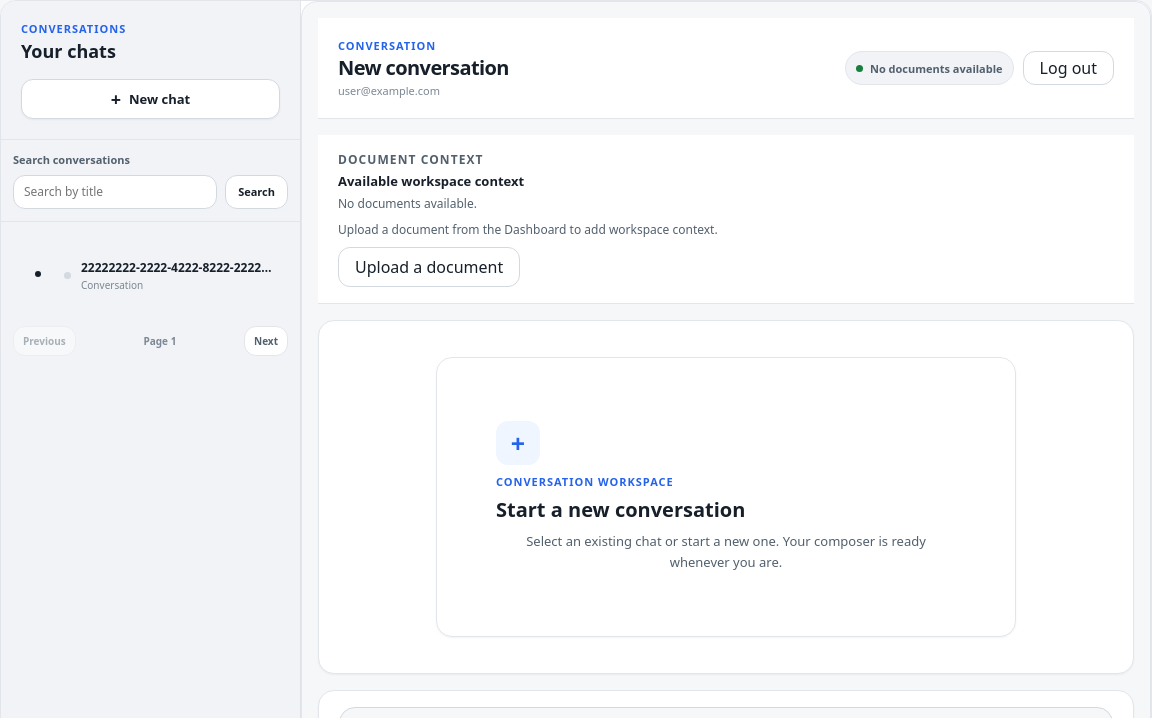
Test case: ChatPage › renders history errors
Click the button "22222222-2222-4222-8222-222222222222": (170, 276) [53,250,288,302]
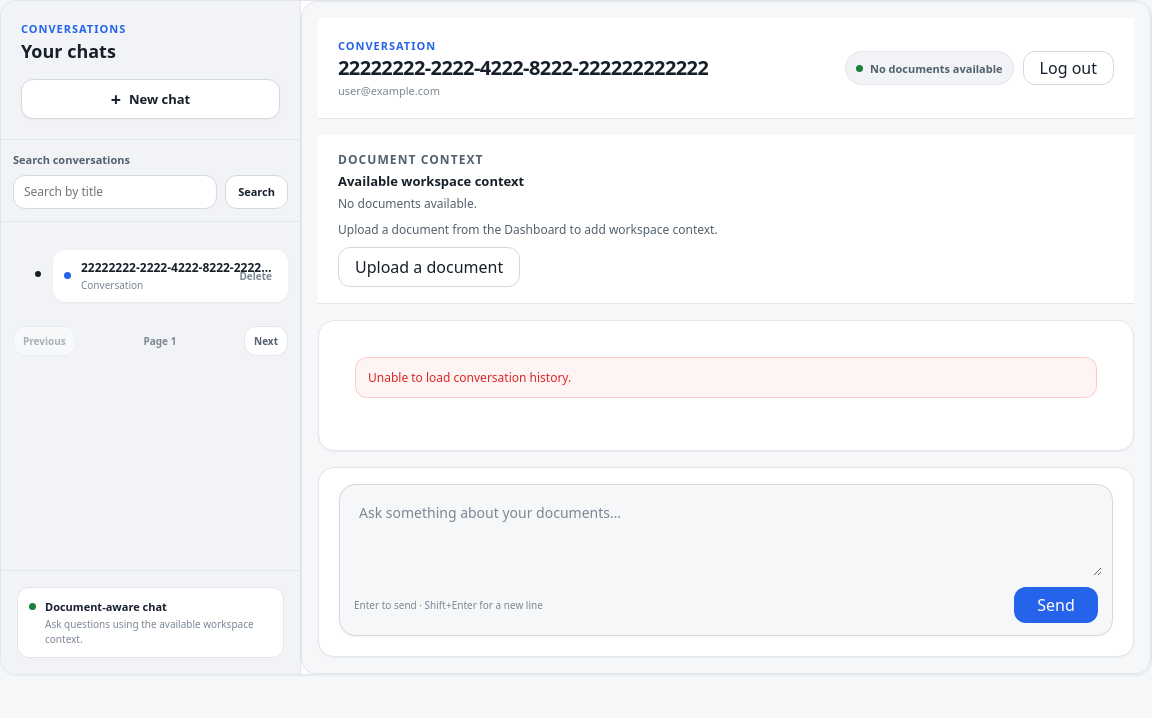
Now the text "Unable to load conversation history." is shown, box [355,357,1097,398]
